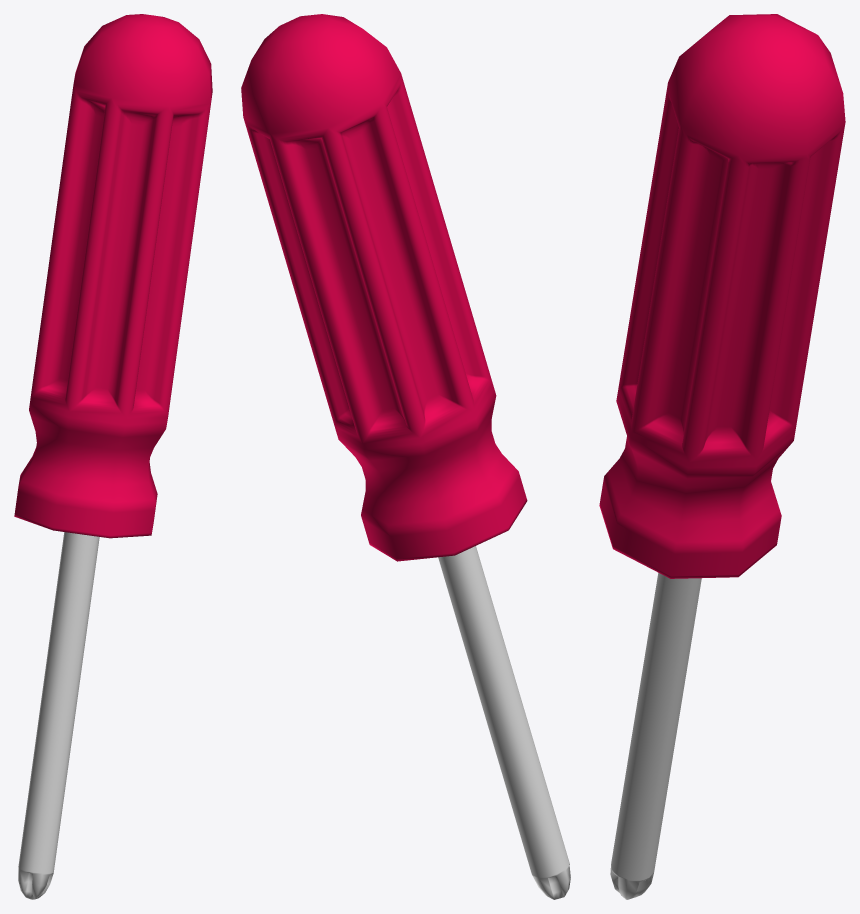
3 renders of one model, left to right at view 1: azimuth 30°, elevation 25°; view 2: azimuth 150°, elevation 25°; view 3: azimuth 270°, elevation 25°, orthographic. The views are drawn at different scales.
Parts seen in each view (by area): view 1: Screw_Driver.001; view 2: Screw_Driver.001; view 3: Screw_Driver.001.
Part boxes in pixels (x1,y1,x2,y2): Screw_Driver.001: (14,14,212,899); Screw_Driver.001: (241,14,570,899); Screw_Driver.001: (599,14,845,899).
Bounding box in the file's own units: 0.1556 × 0.5 × 0.1145.
